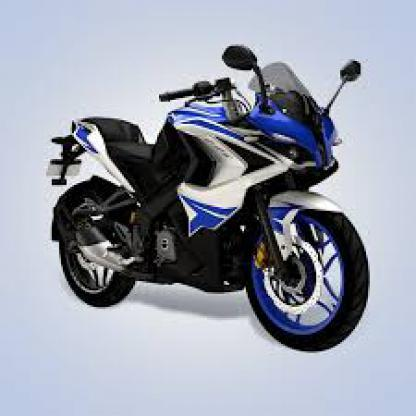Motorcycle: (36, 36, 392, 355)
